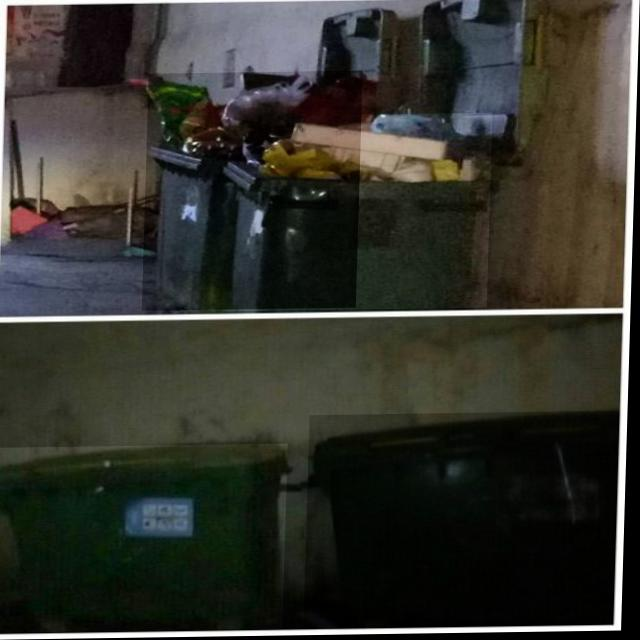garbage_bin: (308, 413, 623, 631), (0, 444, 291, 633)
overflow: (224, 114, 493, 312), (144, 72, 363, 311)
